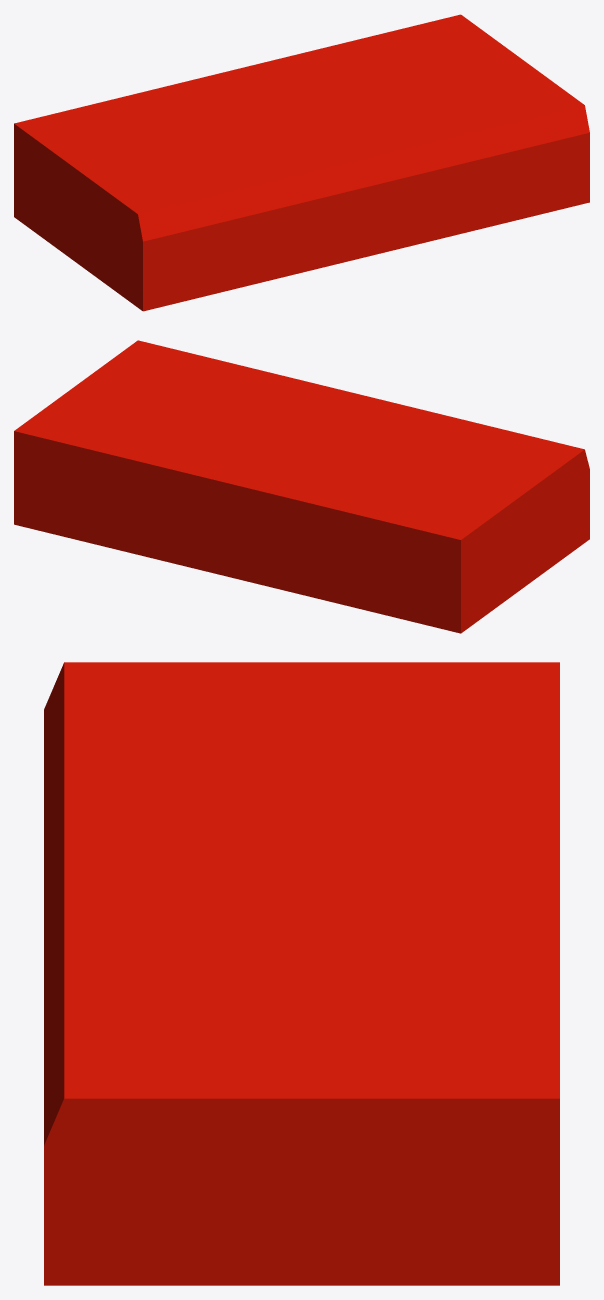
The model's file is shelfbottom.gltf.
The picture shows the model from 3 angles, top to bottom: view 1: azimuth 30°, elevation 25°; view 2: azimuth 150°, elevation 25°; view 3: azimuth 270°, elevation 25°; orthographic projection. The views are drawn at different scales.
Parts seen in each view (by area): view 1: baseShelf; view 2: baseShelf; view 3: baseShelf.
Boxes of the visible parts, left/top/right/bottom form: baseShelf: left=14, top=14, right=589, bottom=311; baseShelf: left=14, top=340, right=589, bottom=633; baseShelf: left=44, top=662, right=559, bottom=1285.
Bounding box in the file's own units: 1 × 0.2 × 0.5.
